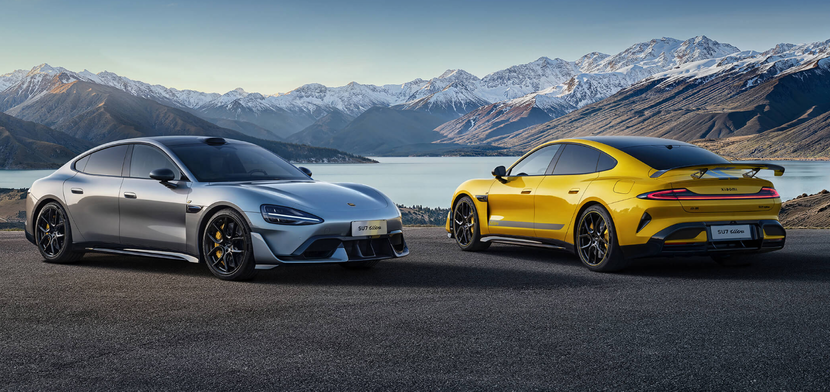su7: (18, 139, 426, 268), (447, 138, 789, 273)
